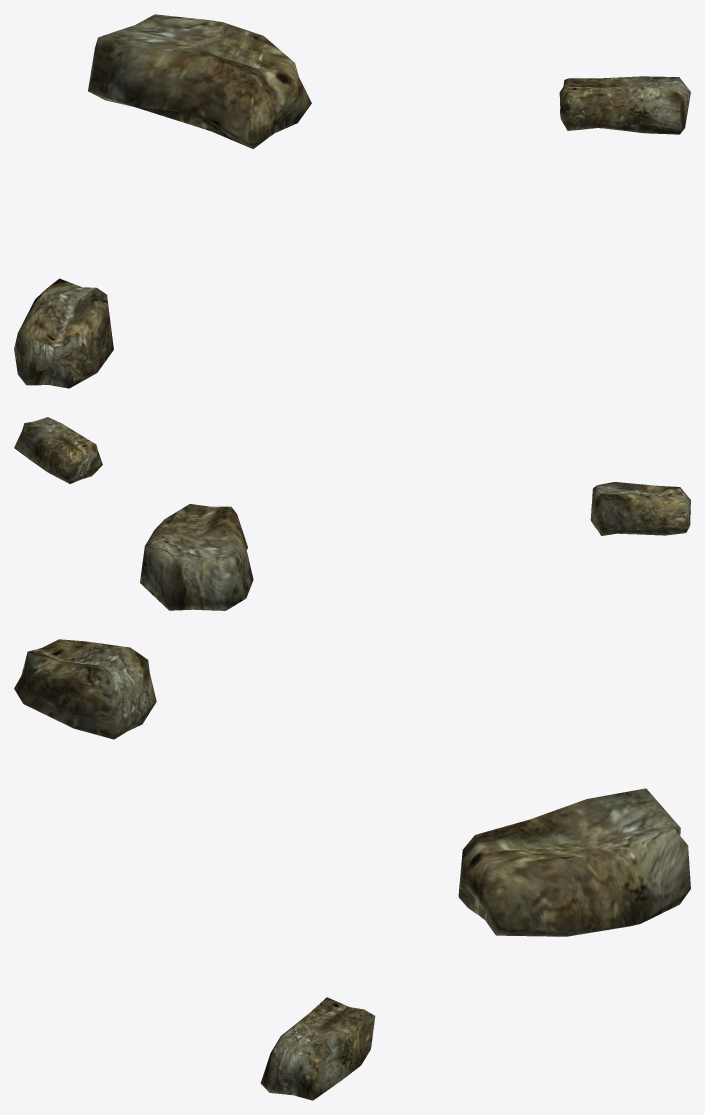
File: rock_round02.dae
The picture shows the model from 3 angles, top to bottom: view 1: azimuth 30°, elevation 25°; view 2: azimuth 150°, elevation 25°; view 3: azimuth 270°, elevation 25°; orthographic projection. The views are drawn at different scales.
Parts seen in each view (by area): view 1: polySurface1; view 2: polySurface1; view 3: polySurface1.
Boxes of the visible parts, x1=… form: polySurface1: x1=14, y1=14, x2=690, y2=388; polySurface1: x1=14, y1=417, x2=690, y2=610; polySurface1: x1=14, y1=639, x2=690, y2=1100.
Bounding box in the file's own units: 1.99 × 0.1886 × 1.35.
